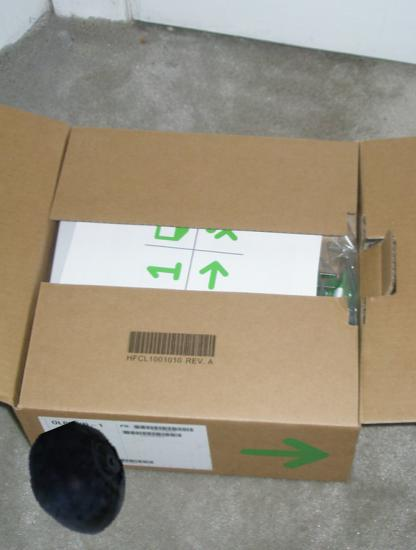Blueberry: (21, 423, 136, 538)
